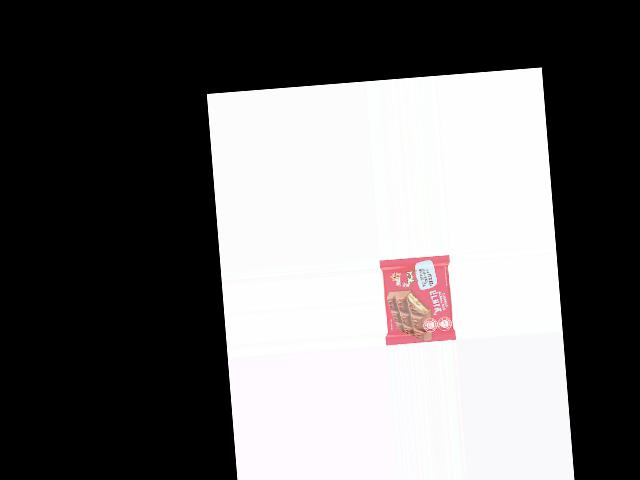chocolate: (380, 257, 456, 344)
